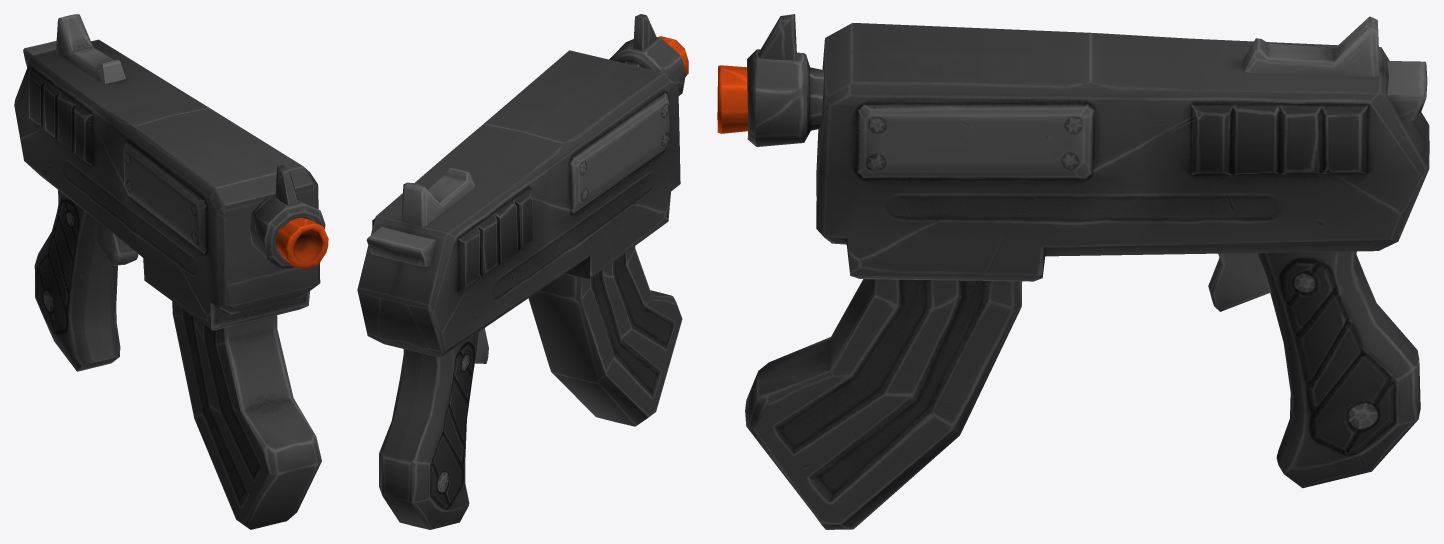
File: gun.glb
3 renders of one model, left to right at view 1: azimuth 30°, elevation 25°; view 2: azimuth 150°, elevation 25°; view 3: azimuth 270°, elevation 25°, orthographic. The views are drawn at different scales.
Parts seen in each view (by area): view 1: node_id11; view 2: node_id11; view 3: node_id11.
Boxes of the visible parts, x1,y1,x2,y2 form: node_id11: [14, 14, 328, 529]; node_id11: [357, 14, 688, 529]; node_id11: [717, 14, 1429, 529].
Bounding box in the file's own units: 0.00199 × 0.00624 × 0.00803.
Materials: 1 (1 with a texture image).
